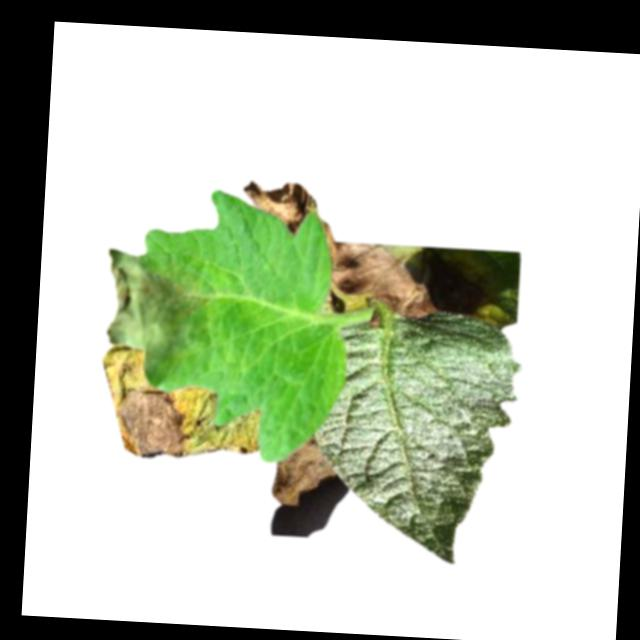Late_blight: (94, 345, 265, 466), (97, 245, 203, 384), (314, 219, 440, 321), (269, 432, 336, 507), (237, 178, 318, 236)
